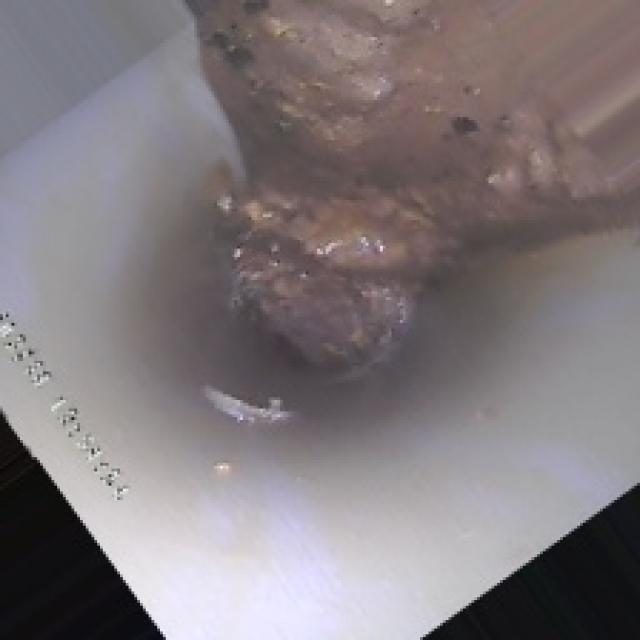sluge accumulation: (188, 0, 625, 331)
